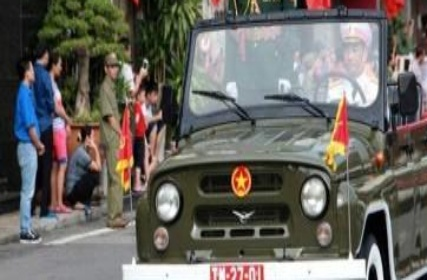plate: (206, 264, 264, 279)
